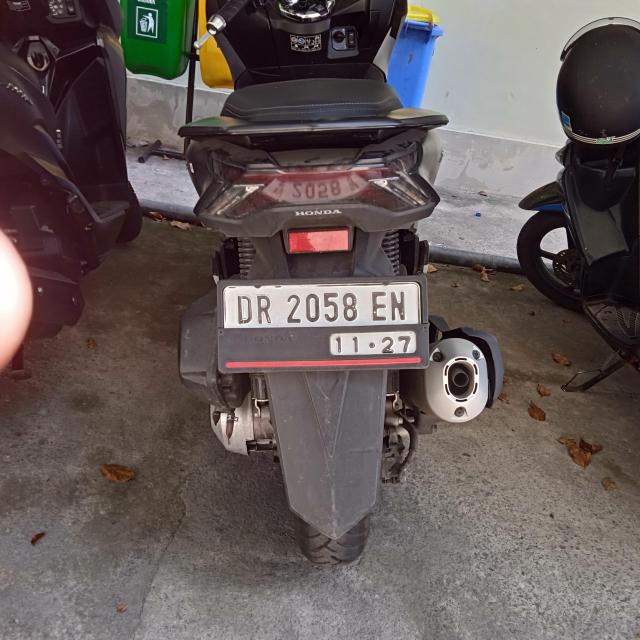plate: (223, 283, 422, 359)
